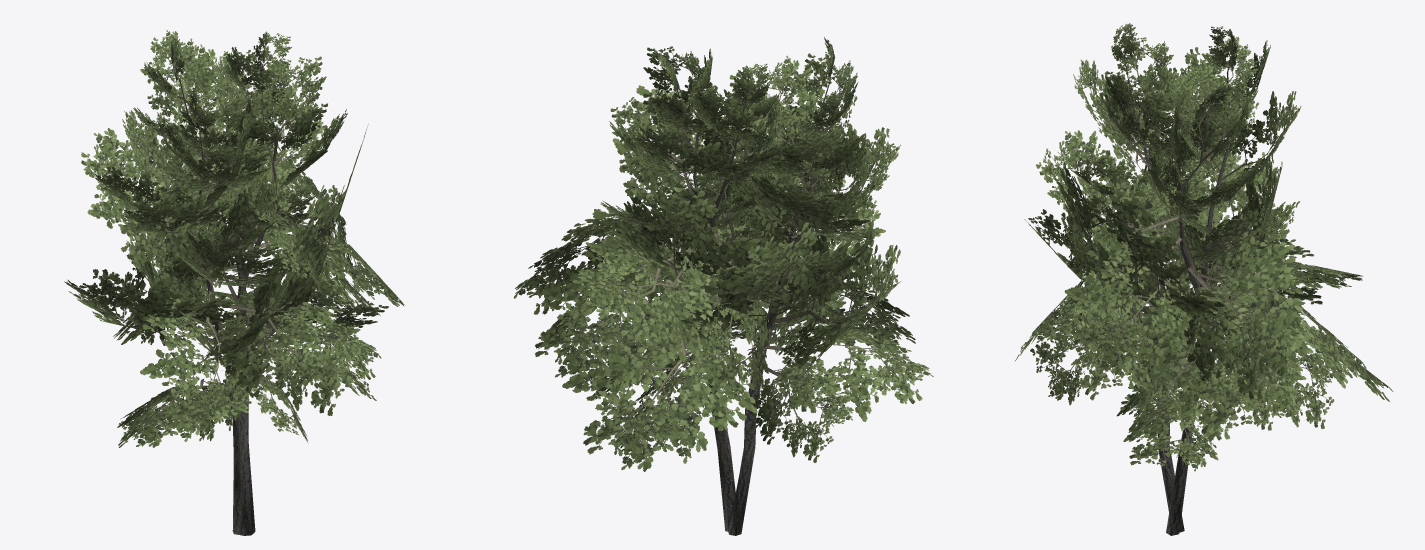
The model's file is tree11.fbx.
The picture shows the model from 3 angles, left to right: view 1: azimuth 30°, elevation 25°; view 2: azimuth 150°, elevation 25°; view 3: azimuth 270°, elevation 25°; orthographic projection. The views are drawn at different scales.
Visible parts, largest first — view 1: Tree-02-1; view 2: Tree-02-1; view 3: Tree-02-1.
Part boxes in pixels (x1,y1,x2,y2): Tree-02-1: (64, 30, 404, 535); Tree-02-1: (514, 37, 933, 535); Tree-02-1: (1014, 23, 1393, 535).
Size of the model in its own units: 564 by 739 by 571.
